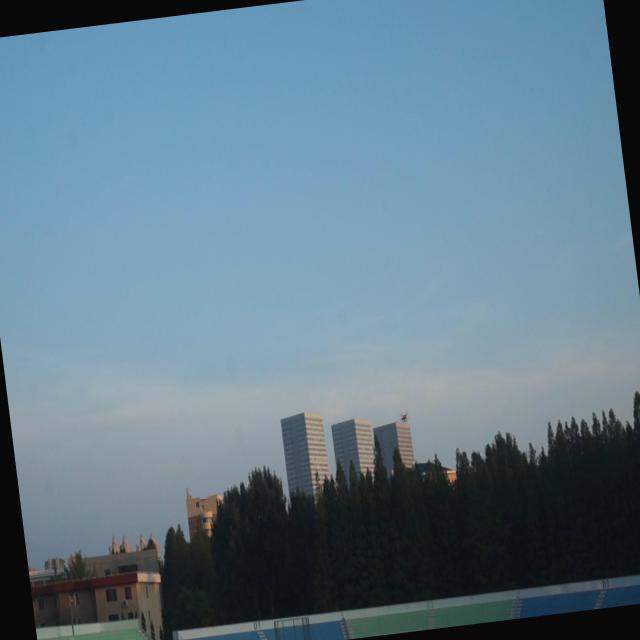drone: (398, 408, 410, 424)
